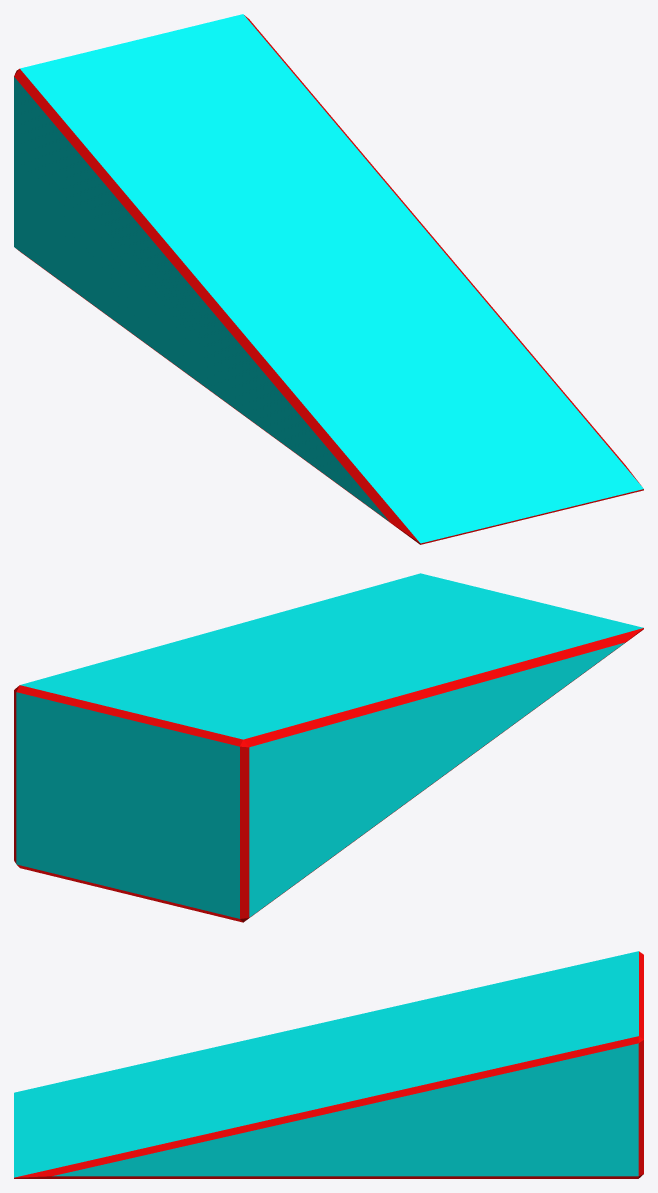
File: L13_Ramp.fbx
The picture shows the model from 3 angles, top to bottom: view 1: azimuth 30°, elevation 25°; view 2: azimuth 150°, elevation 25°; view 3: azimuth 270°, elevation 25°; orthographic projection. The views are drawn at different scales.
Visible parts, largest first — view 1: L13_Ramp; view 2: L13_Ramp; view 3: L13_Ramp.
Part boxes in pixels (x1,y1,x2,y2): L13_Ramp: [14, 14, 643, 544]; L13_Ramp: [14, 573, 643, 922]; L13_Ramp: [14, 951, 643, 1178].
Size of the model in its own units: 200 by 149 by 595.
